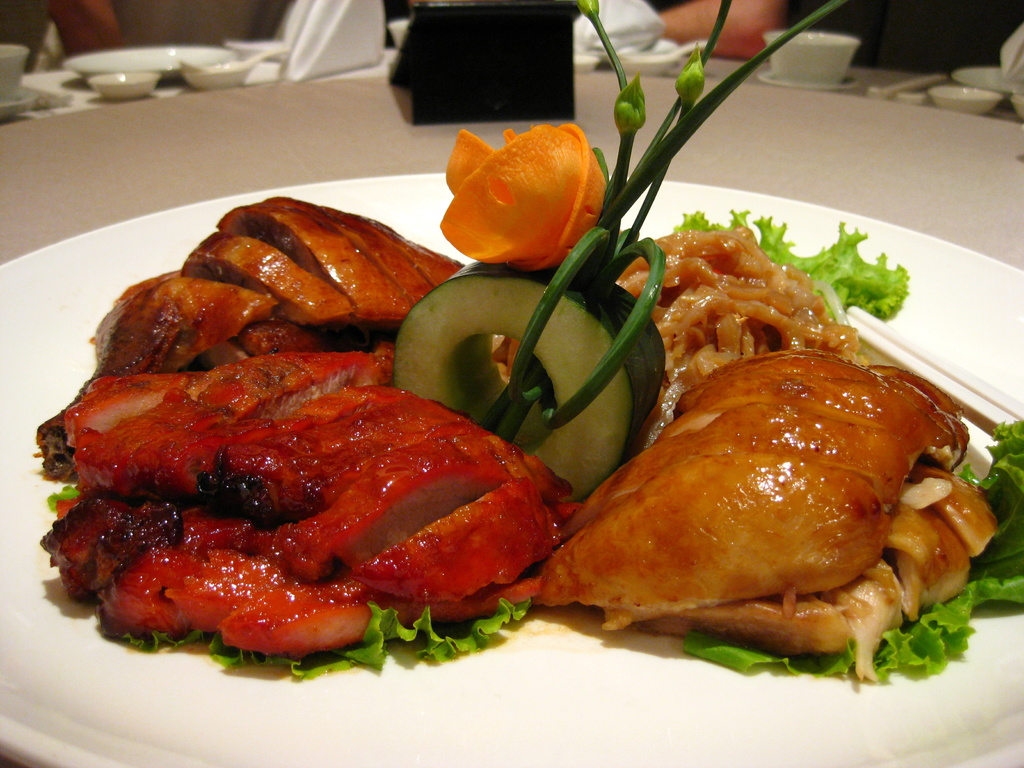person: (0, 0, 124, 75)
